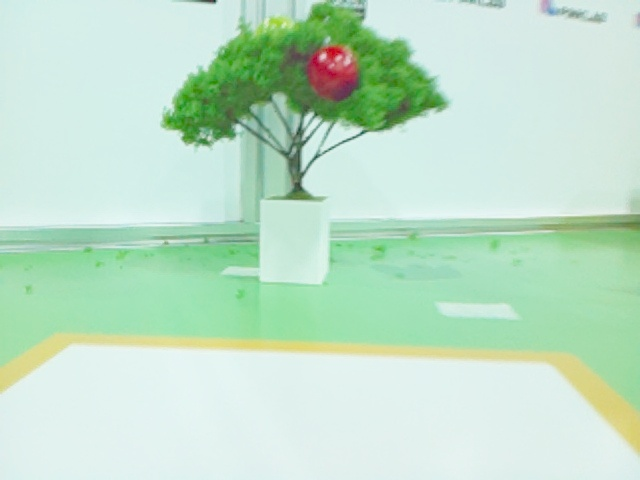apple: (304, 36, 372, 105)
